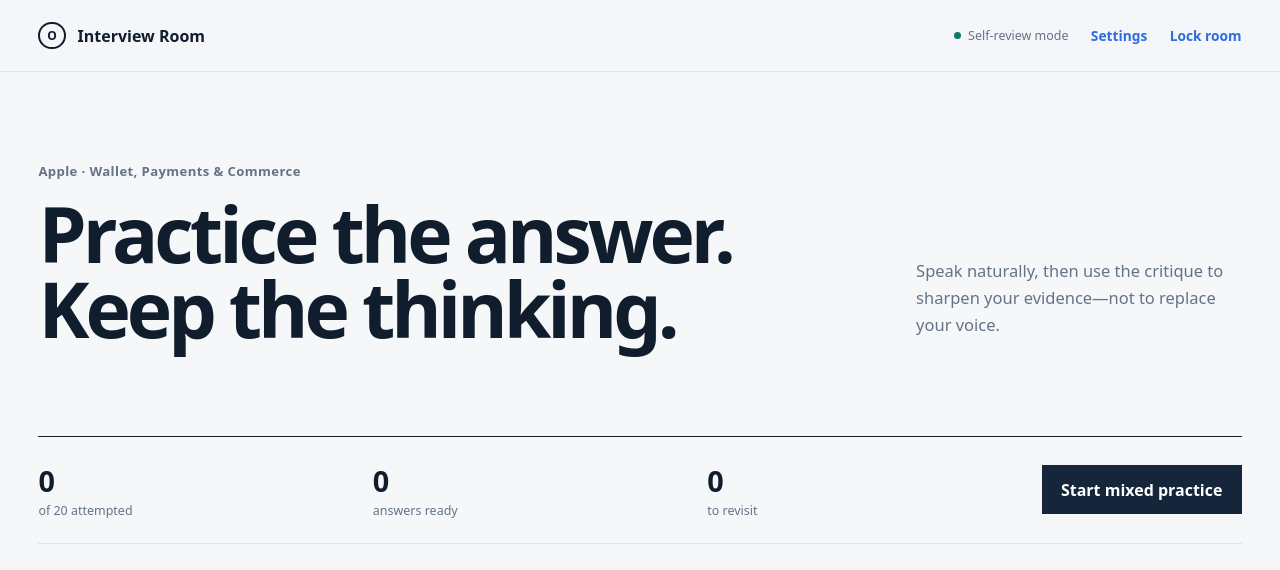
it: interview practice › includes the new category in mixed practice
Click the link "Settings".
click(1119, 36)  # box [1091,26,1147,45]
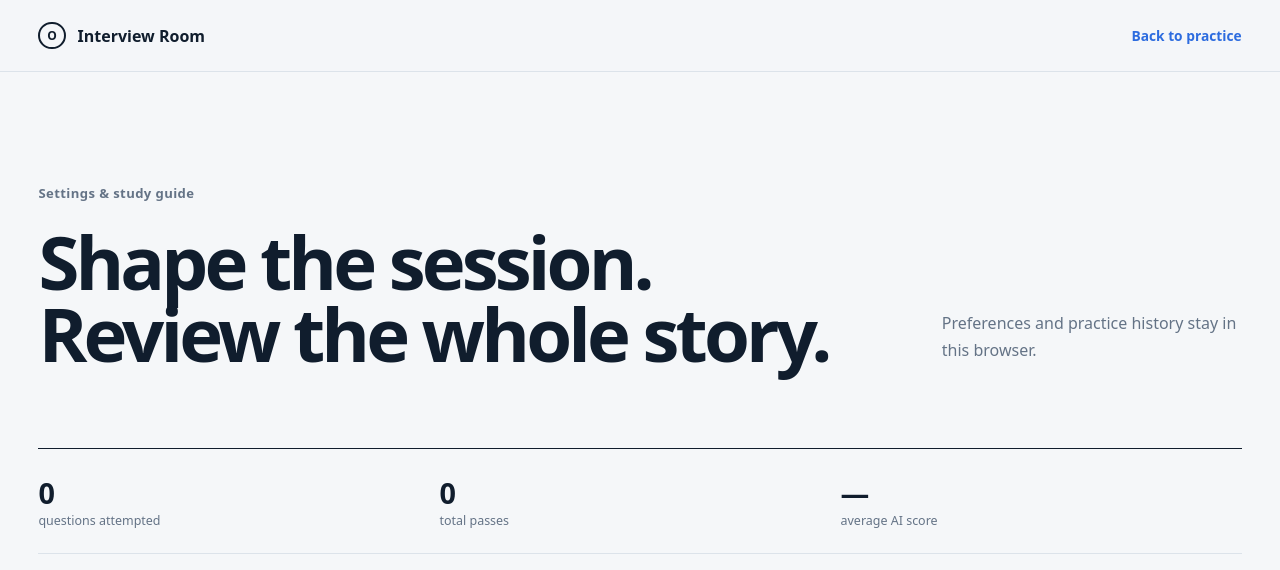
Scroll
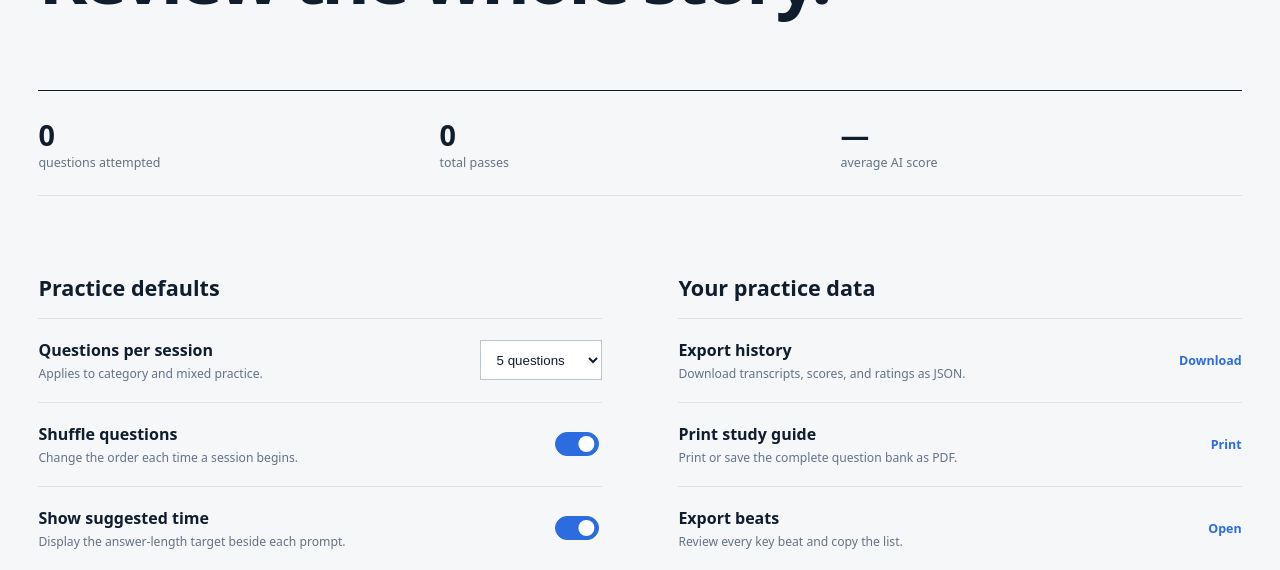
Select "All available" in the dropdown with id "session-size" at (541, 360), box [480,340,602,380]
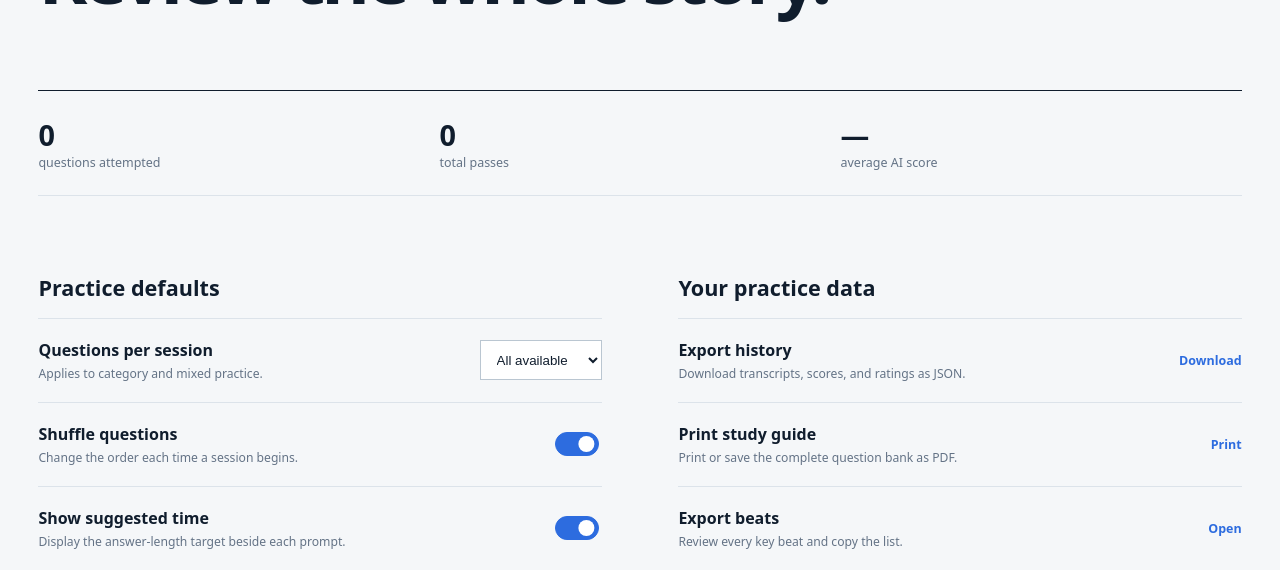
Scroll
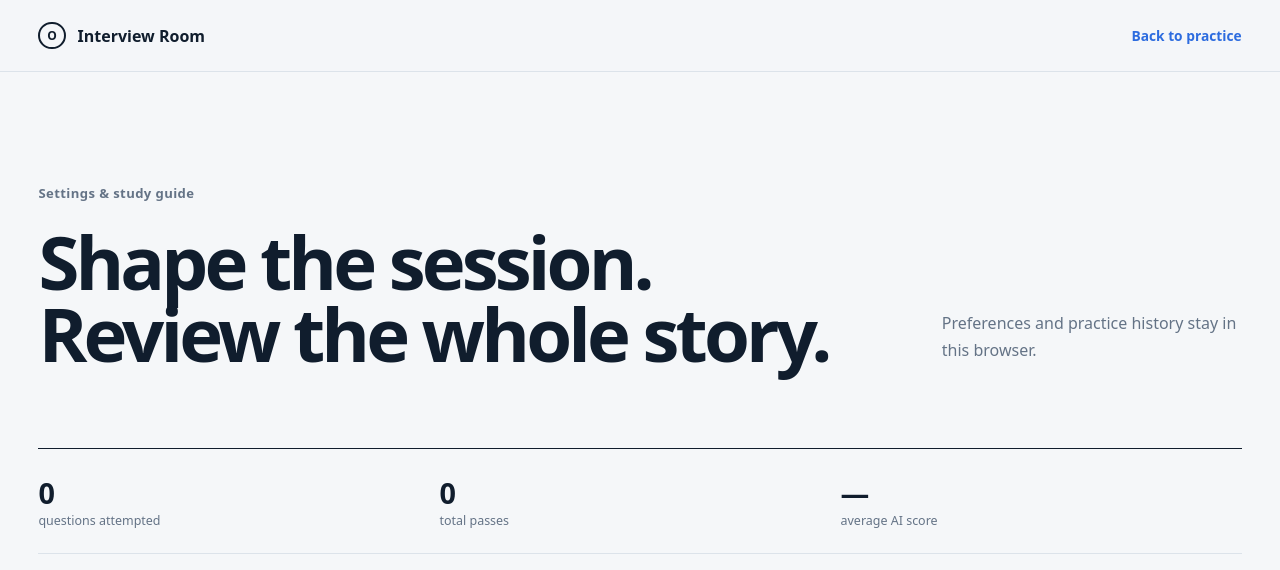
Click the link "Back to practice".
click(1186, 36)  # box [1131,26,1241,45]
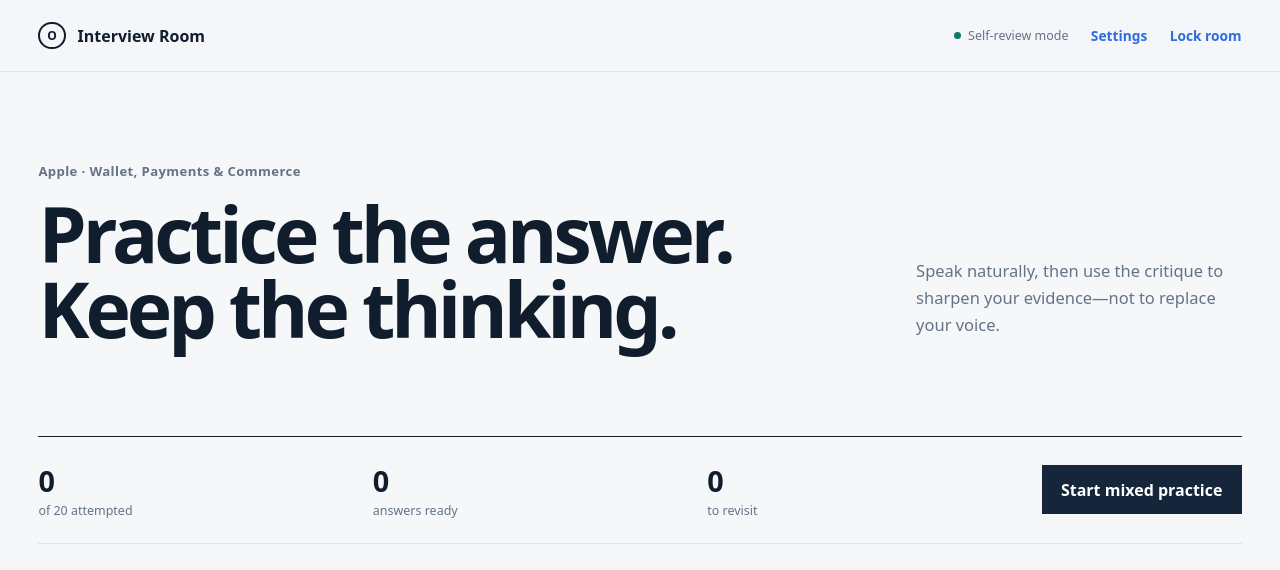
Click the button "Start mixed practice".
click(1142, 490)  # box [1042,465,1242,514]
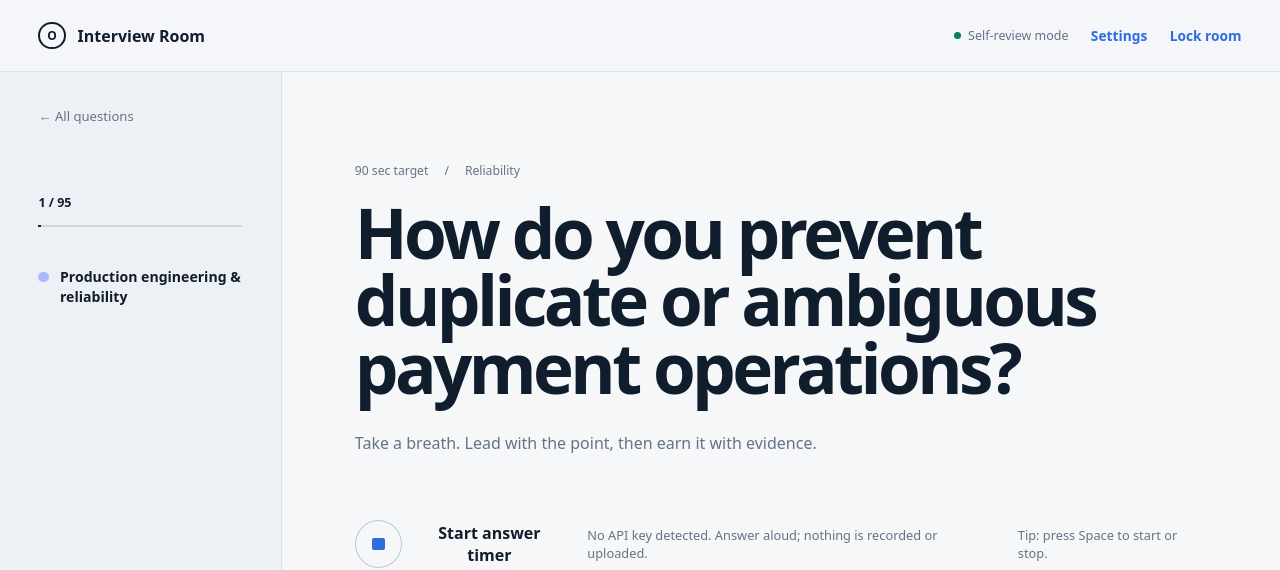
expect the text "1 / 95" is shown: met, box [38,194,71,211]
